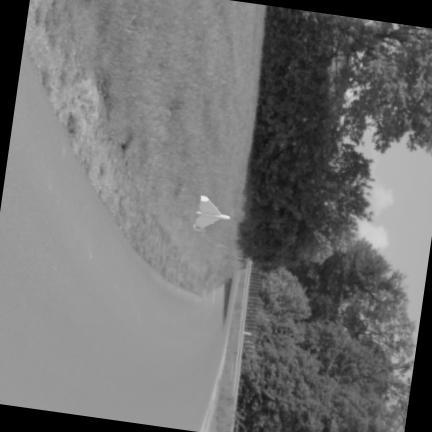Shahed: (193, 195, 228, 230)
